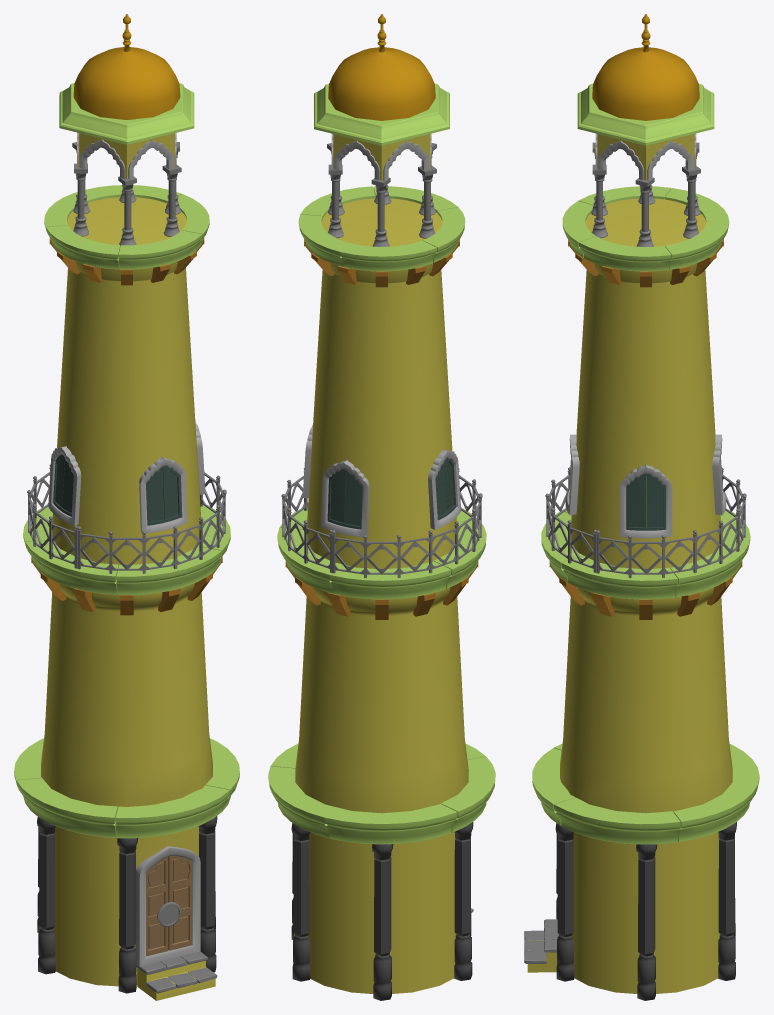
Rendered from SM_Minaret_india.fbx.
3 views of the same model, side by side, from view 1: azimuth 30°, elevation 25°; view 2: azimuth 150°, elevation 25°; view 3: azimuth 270°, elevation 25° (orthographic).
Visible parts, largest first — view 1: Minaret; view 2: Minaret; view 3: Minaret.
Part boxes in pixels (x1,y1,x2,y2): Minaret: (14, 14, 239, 1000); Minaret: (268, 14, 495, 1000); Minaret: (524, 14, 759, 1000).
Size of the model in its own units: 231 by 1058 by 239.
